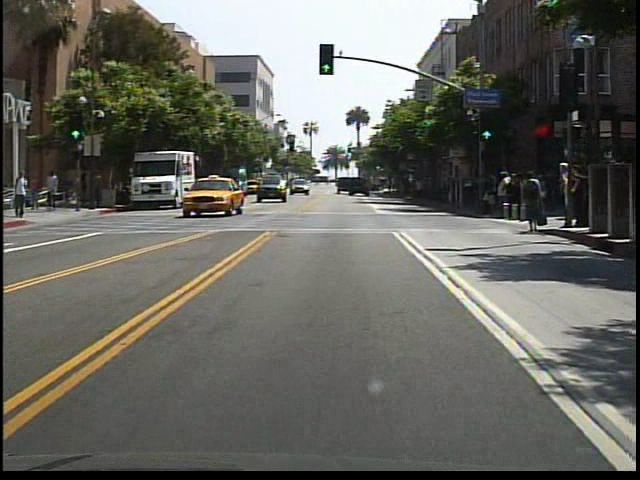person: (517, 169, 546, 236), (45, 166, 65, 214), (16, 168, 34, 220), (30, 171, 46, 213), (92, 169, 108, 209), (80, 170, 92, 207)
